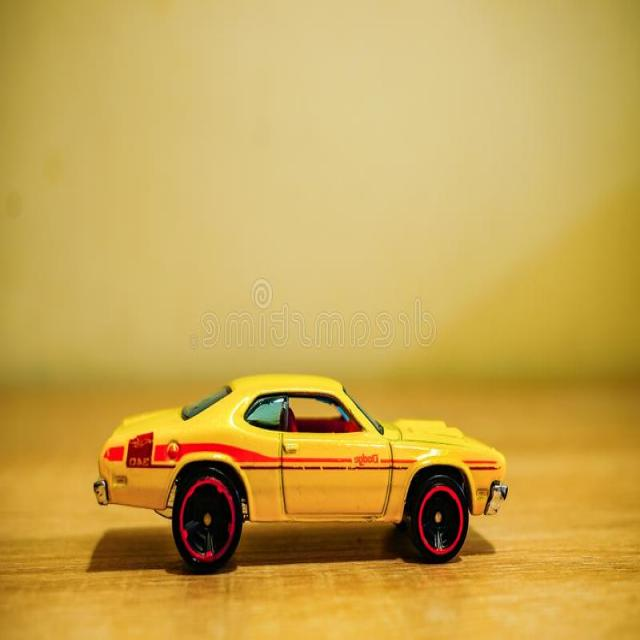Car: (94, 372, 508, 571)
